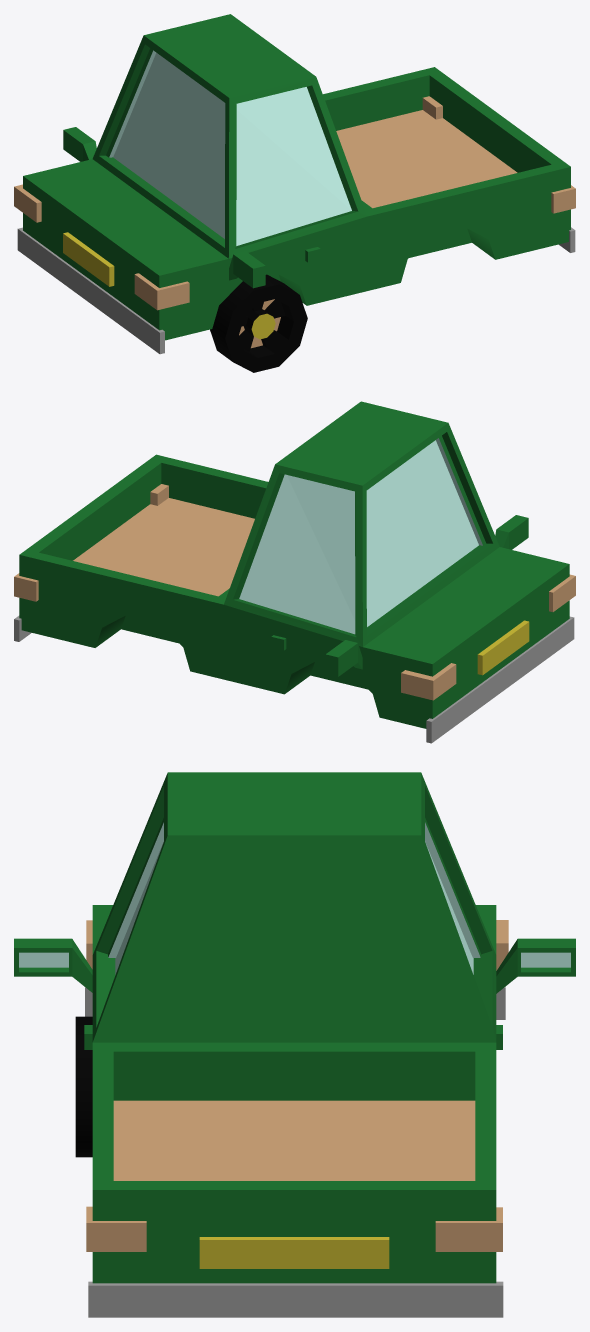
Rendered from Pickup.fbx.
3 views of the same model, one above another, from view 1: azimuth 30°, elevation 25°; view 2: azimuth 150°, elevation 25°; view 3: azimuth 270°, elevation 25° (orthographic). The views are drawn at different scales.
Parts seen in each view (by area): view 1: Box050, Cylinder053; view 2: Box050; view 3: Box050, Cylinder053.
Boxes of the visible parts, x1,y1,x2,y2 form: Box050: (14, 14, 575, 354); Cylinder053: (210, 274, 307, 372); Box050: (14, 401, 575, 743); Box050: (14, 772, 575, 1317); Cylinder053: (75, 1016, 92, 1157).
Bounding box in the file's own units: 103 × 58.57 × 80.39.
Materials: 8 (8 with a texture image).
